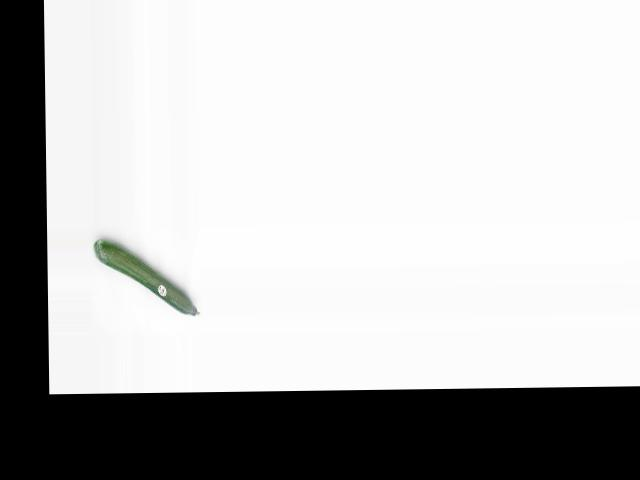cucumber: (94, 238, 200, 317)
